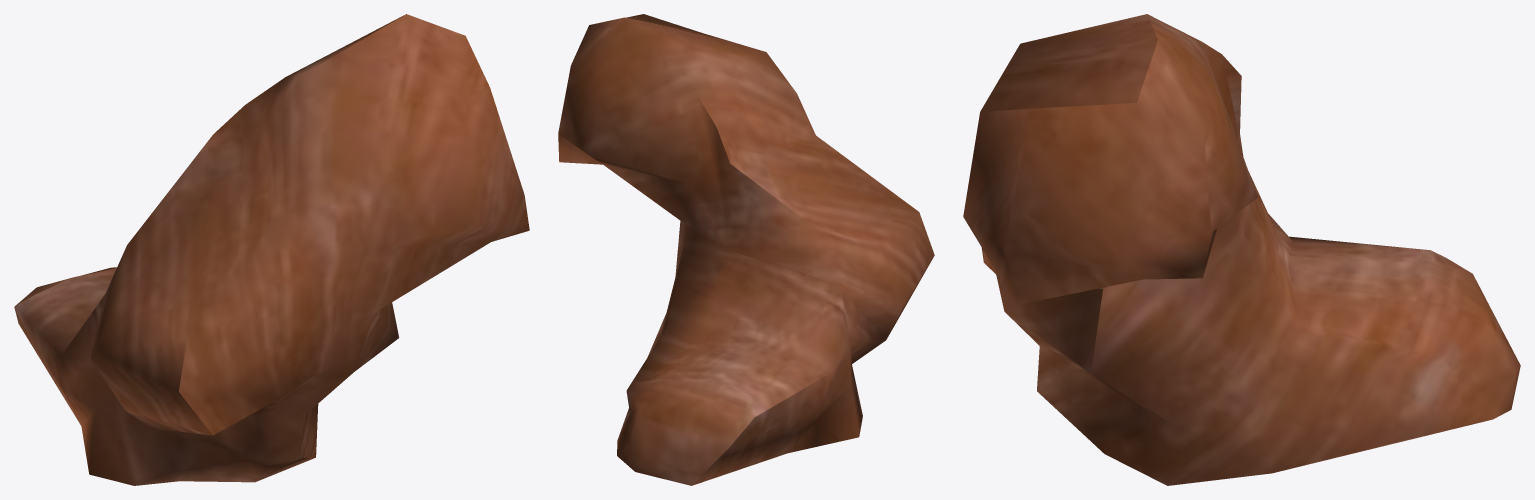
File: Canyon_Rock_Formations_8.glb
The picture shows the model from 3 angles, left to right: view 1: azimuth 30°, elevation 25°; view 2: azimuth 150°, elevation 25°; view 3: azimuth 270°, elevation 25°; orthographic projection. The views are drawn at different scales.
Visible parts, largest first — view 1: Canyon_Rock_Formations_8_0; view 2: Canyon_Rock_Formations_8_0; view 3: Canyon_Rock_Formations_8_0.
Part boxes in pixels (x1,y1,x2,y2): Canyon_Rock_Formations_8_0: (14, 14, 529, 485); Canyon_Rock_Formations_8_0: (558, 14, 934, 485); Canyon_Rock_Formations_8_0: (963, 14, 1520, 485).
Bounding box in the file's own units: 8.99 × 8.89 × 8.95.
Materials: 1 (1 with a texture image).
